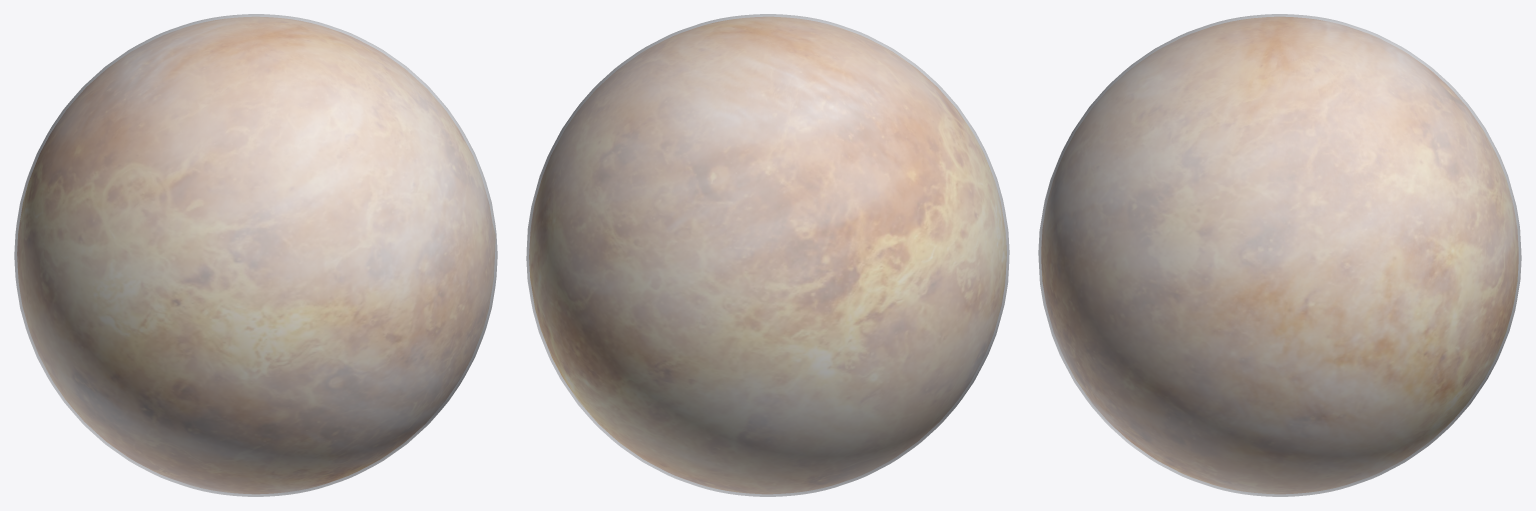
File: venus.glb
3 views of the same model, side by side, from view 1: azimuth 30°, elevation 25°; view 2: azimuth 150°, elevation 25°; view 3: azimuth 270°, elevation 25° (orthographic).
Visible parts, largest first — view 1: Sphere.001; view 2: Sphere.001; view 3: Sphere.001.
Boxes of the visible parts, <box> form: Sphere.001: <box>14,14,497,496</box>; Sphere.001: <box>526,14,1009,496</box>; Sphere.001: <box>1038,14,1521,496</box>.
Size of the model in its own units: 2.02 by 2.02 by 2.02.
Materials: 2 (2 with a texture image).
